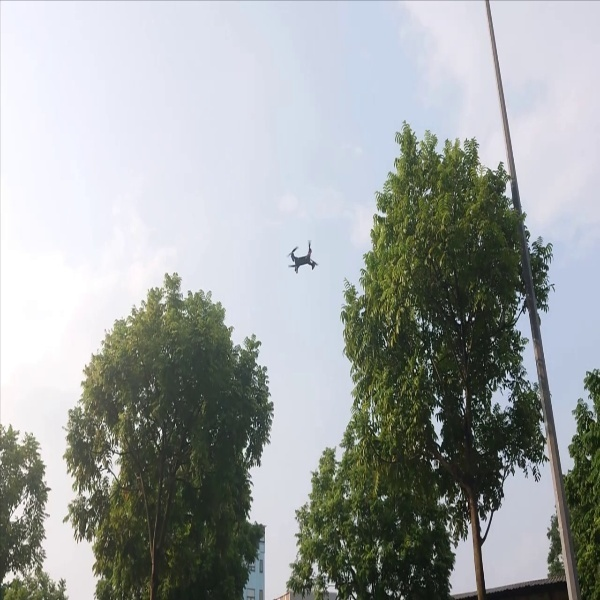drone: (278, 235, 326, 279)
